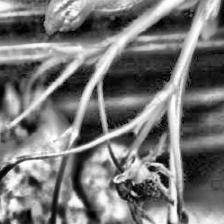Gray Mold: (113, 132, 176, 224)
